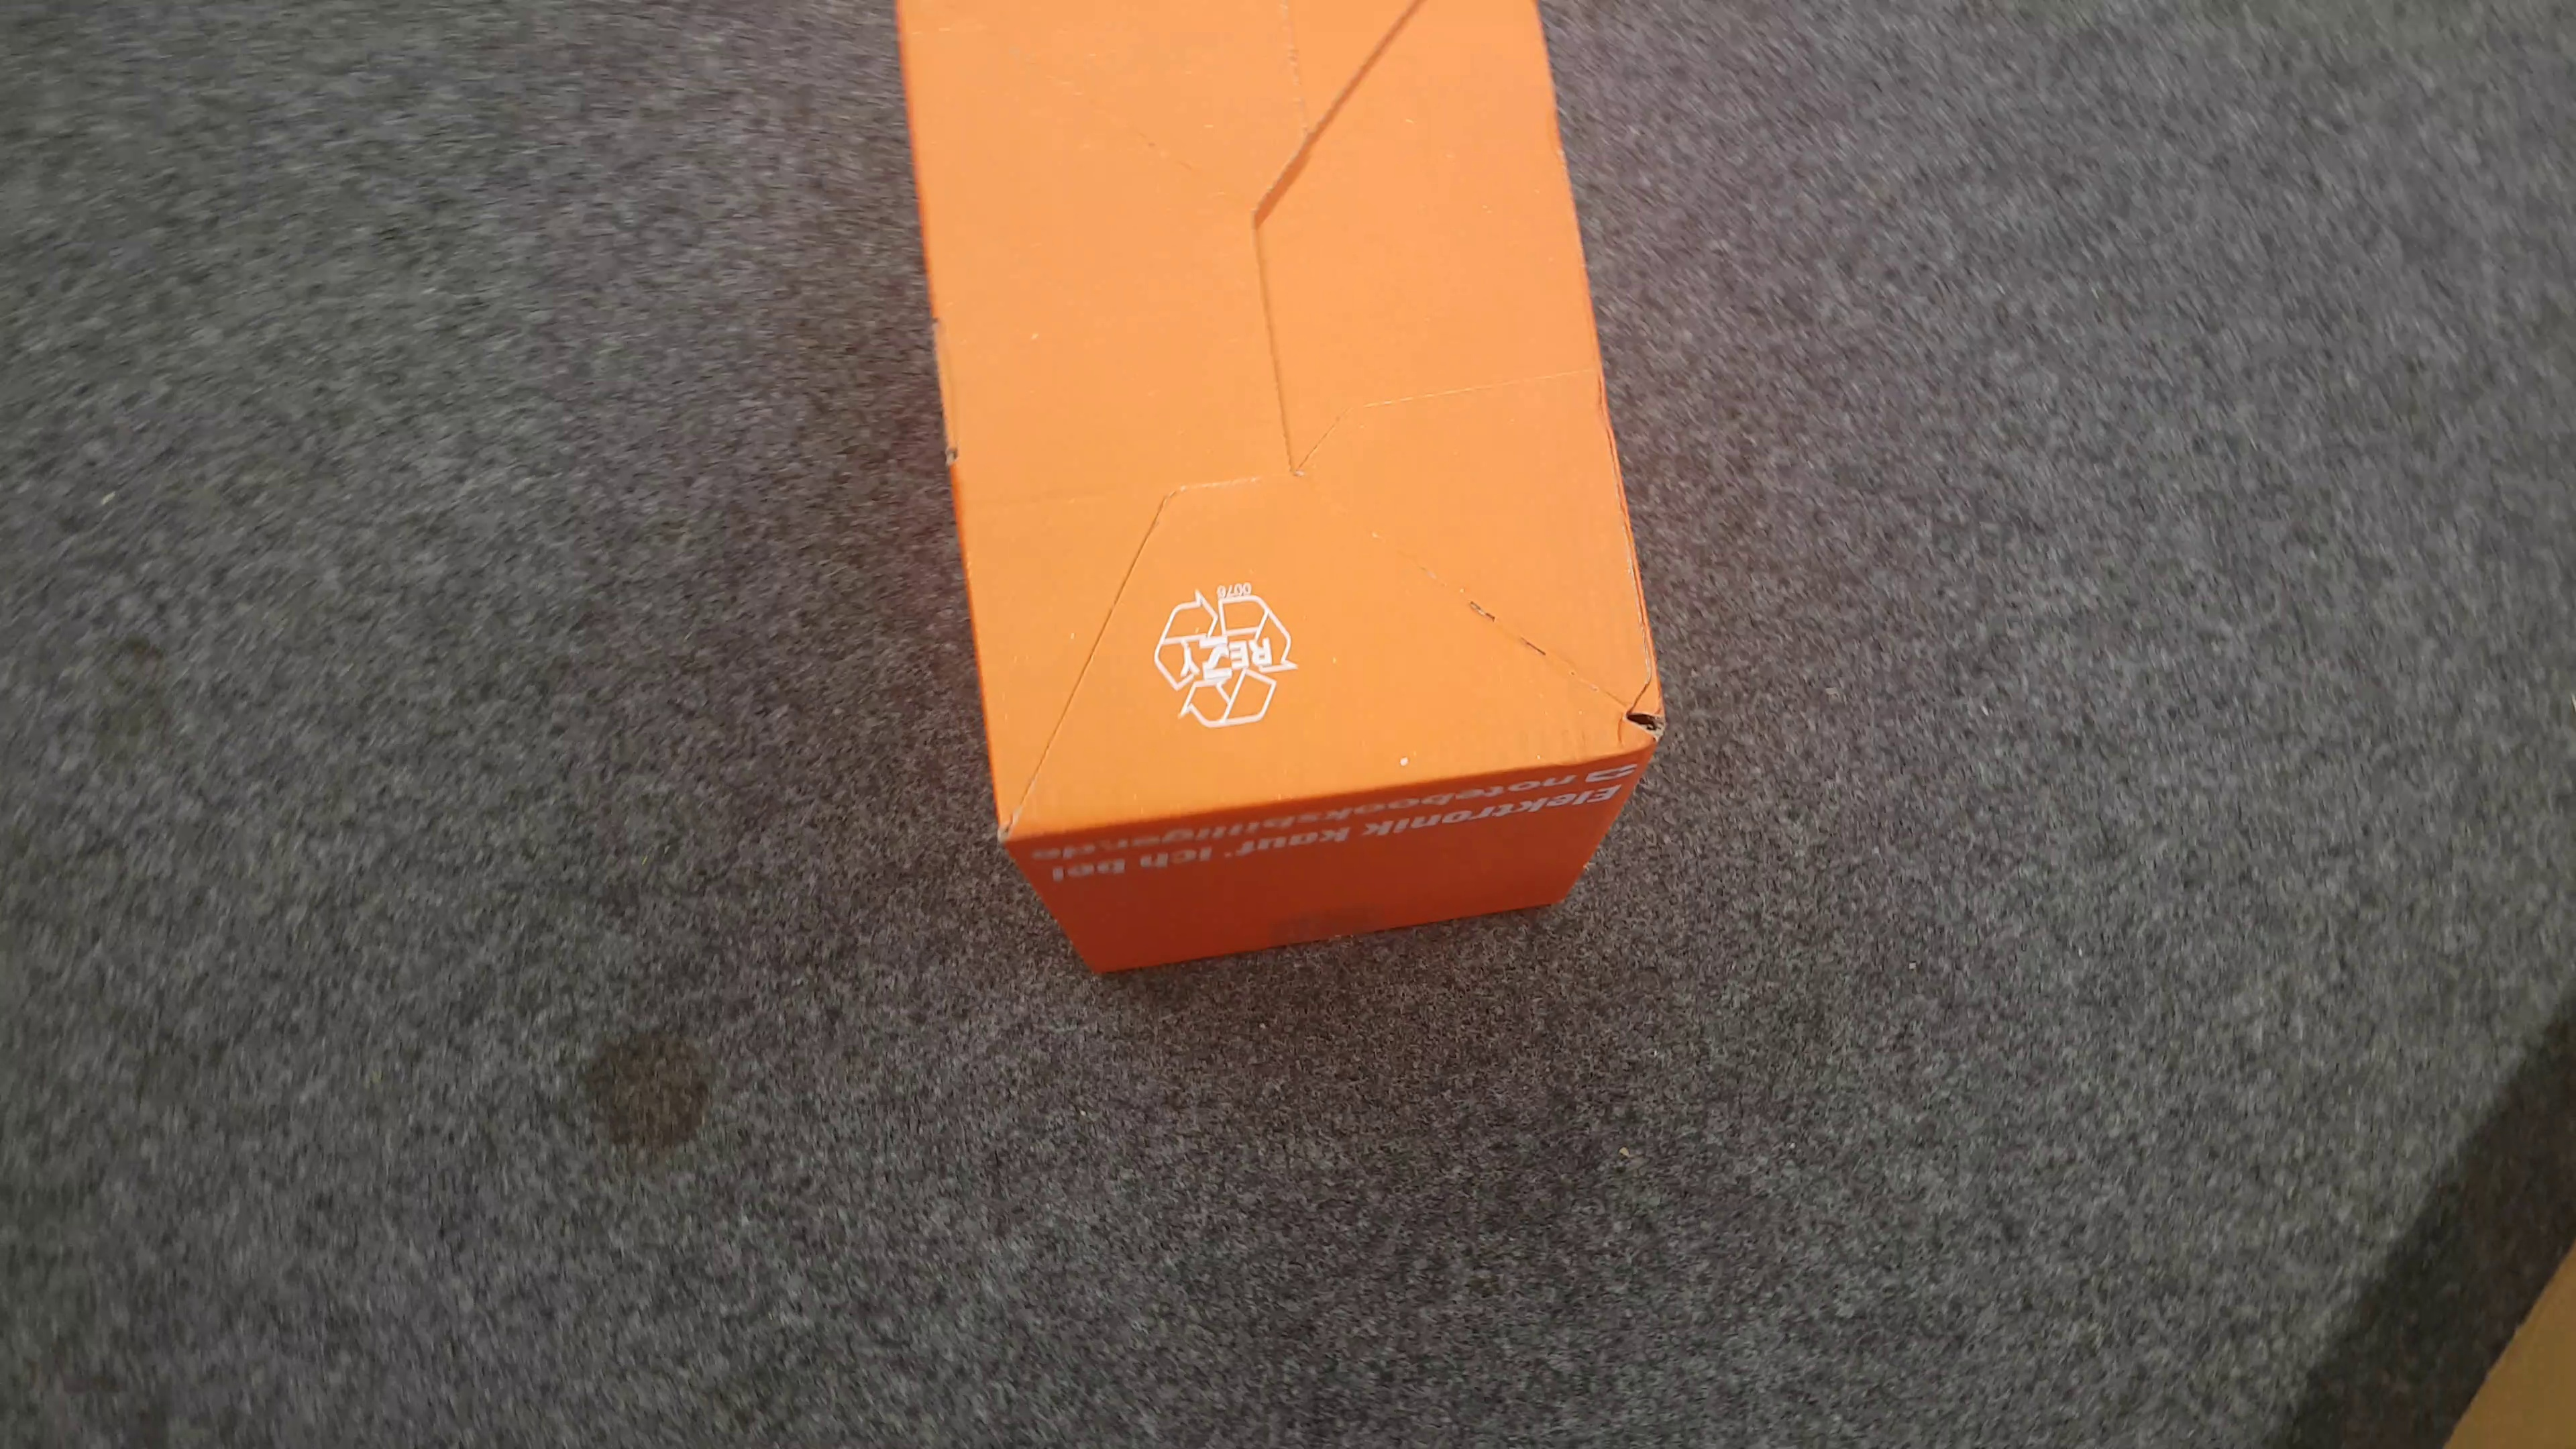push: (886, 4, 1668, 977)
